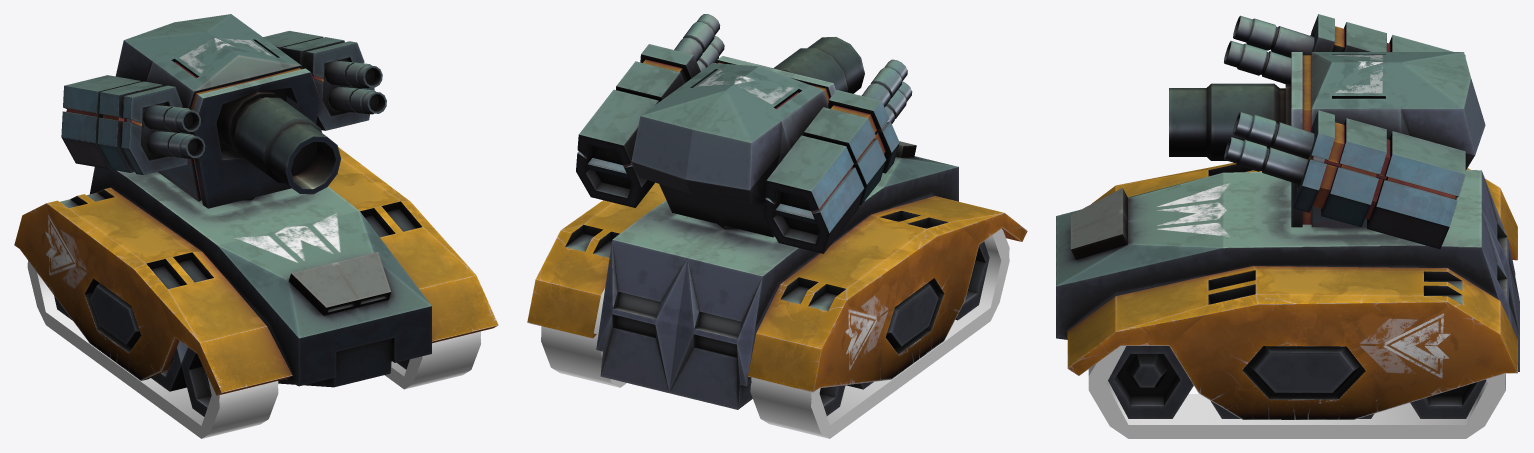
Rendered from panzer1.fbx.
3 renders of one model, left to right at view 1: azimuth 30°, elevation 25°; view 2: azimuth 150°, elevation 25°; view 3: azimuth 270°, elevation 25°, orthographic. The views are drawn at different scales.
Visible parts, largest first — view 1: base1, top1, tracks; view 2: base1, top1, tracks; view 3: base1, top1, tracks.
Boxes of the visible parts, x1=… form: base1: x1=14, y1=147, x2=498, y2=416; top1: x1=61, y1=14, x2=386, y2=208; tracks: x1=27, y1=261, x2=480, y2=438; base1: x1=527, y1=141, x2=1027, y2=415; top1: x1=576, y1=14, x2=912, y2=253; tracks: x1=541, y1=229, x2=1009, y2=438; base1: x1=1056, y1=162, x2=1519, y2=419; top1: x1=1169, y1=14, x2=1485, y2=249; tracks: x1=1088, y1=346, x2=1505, y2=438.
Bounding box in the file's own units: 315 × 308 × 421.
